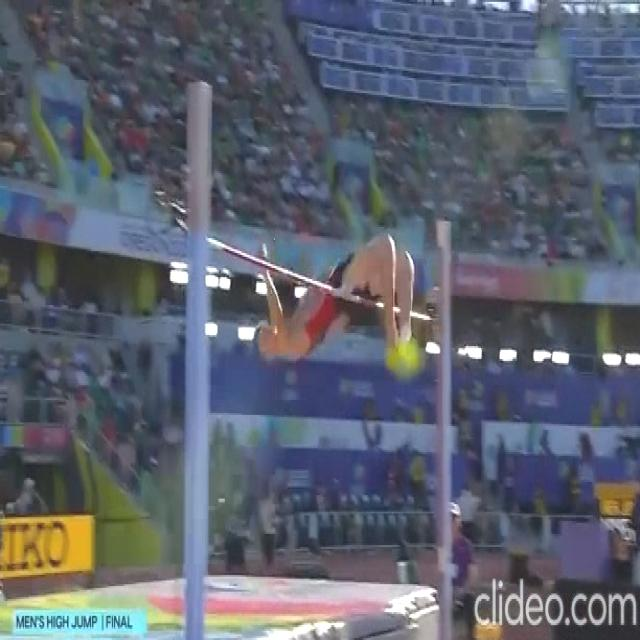jump: (247, 233, 429, 367)
